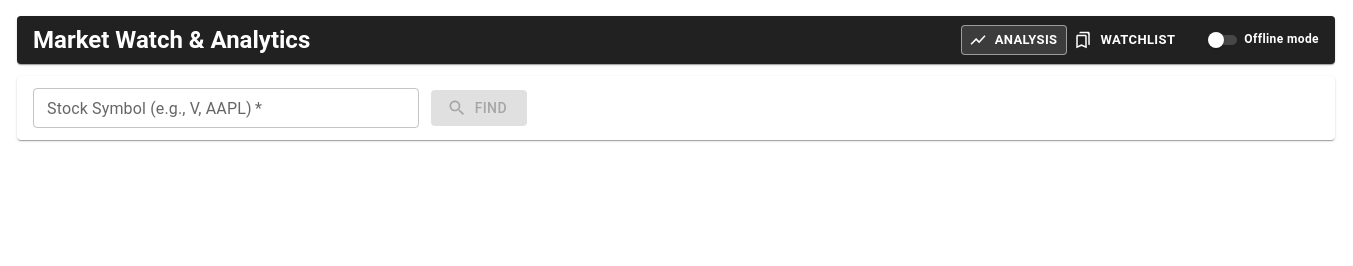
Scenario: App — watchlists offline (this browser) › deletes a watchlist through the store
Click the switch labelled "Offline mode" at (1262, 40), box [1204, 28, 1319, 52]
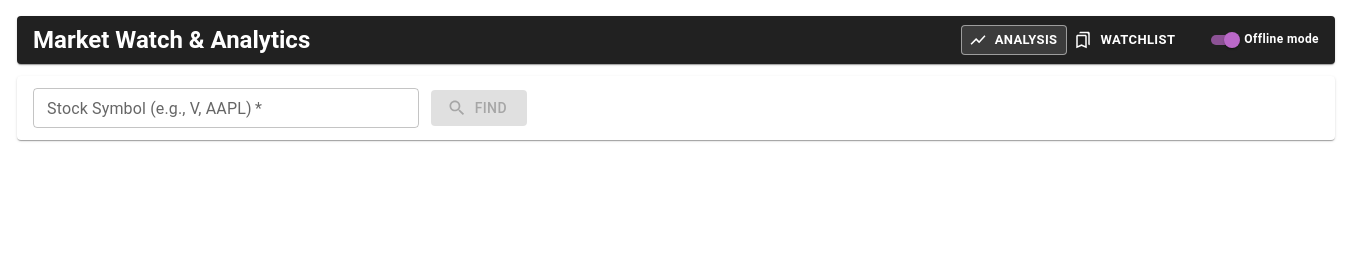
Click the button "Watchlist" at (1126, 40), box [1071, 25, 1180, 55]
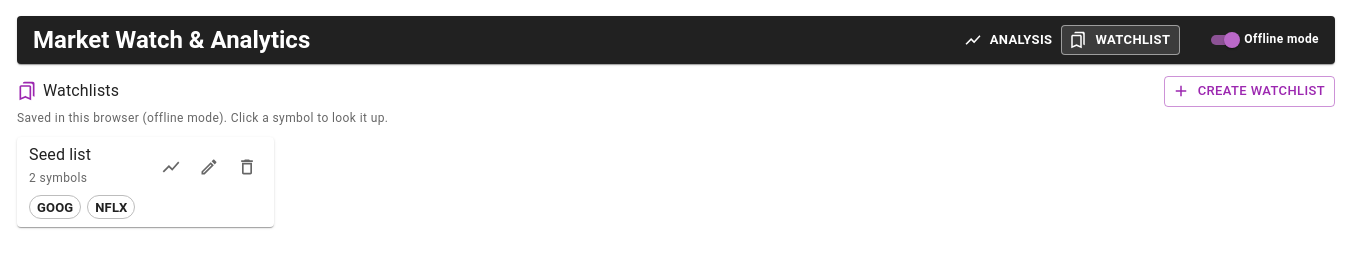
Click the button named "Delete watchlist Seed list" at (247, 167), box [232, 152, 262, 182]
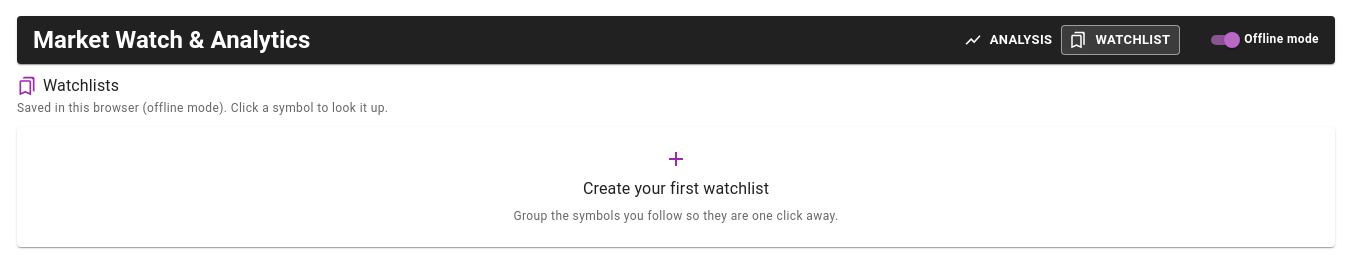
Check: the heading "Create your first watchlist" is shown, box [583, 175, 769, 203]
